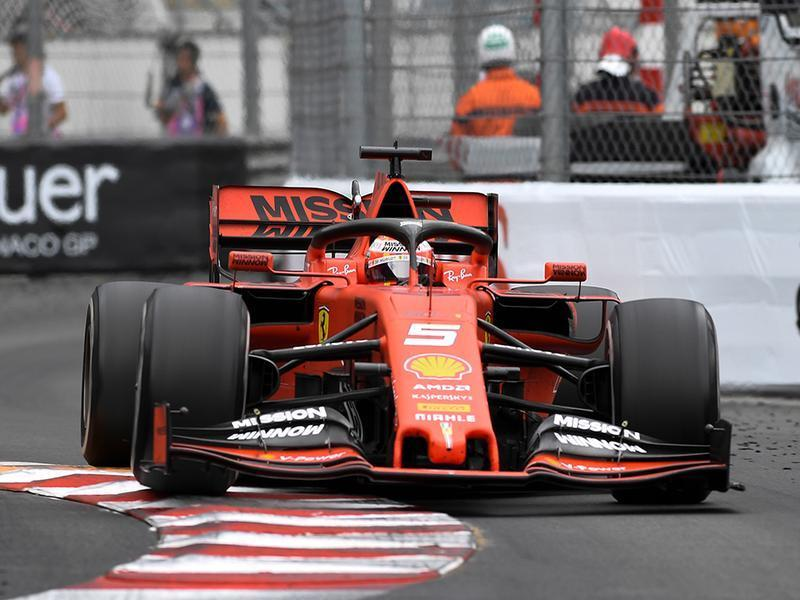f1: (89, 139, 765, 515)
